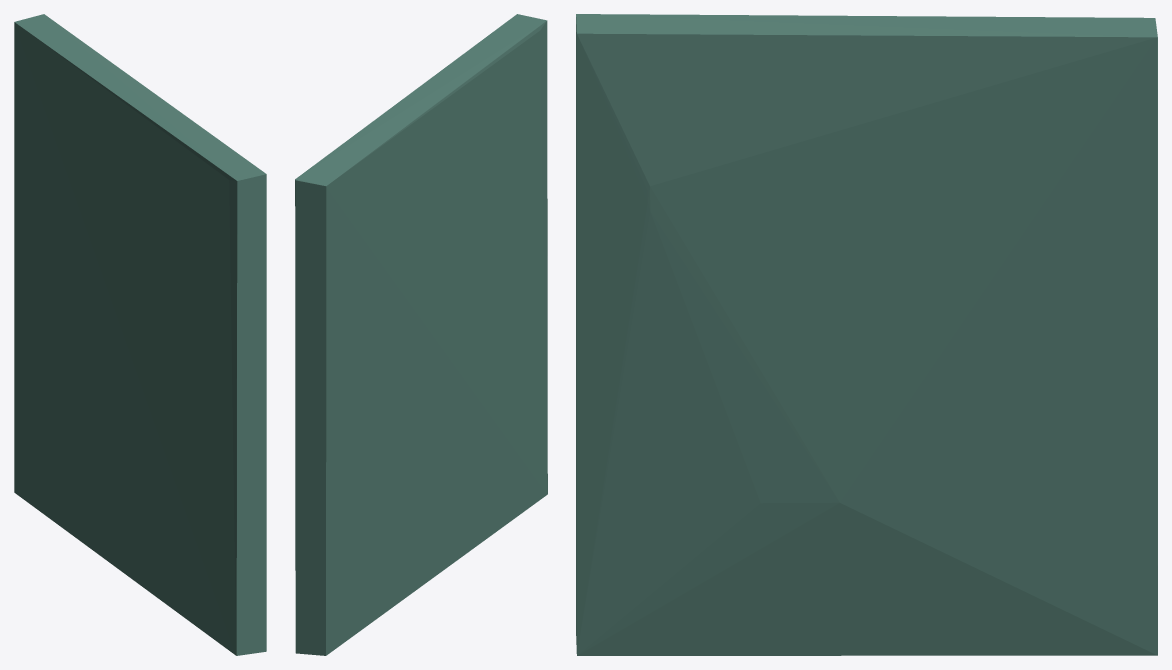
File: workshopSystem_scheduleBoard_service_a01.glb
3 views of the same model, side by side, from view 1: azimuth 30°, elevation 25°; view 2: azimuth 150°, elevation 25°; view 3: azimuth 270°, elevation 25° (orthographic). The views are drawn at different scales.
Parts seen in each view (by area): view 1: geometry_0; view 2: geometry_0; view 3: geometry_0.
Boxes of the visible parts, x1,y1,x2,y2 form: geometry_0: (14,14,266,655); geometry_0: (295,14,547,655); geometry_0: (576,14,1157,655).
Size of the model in its own units: 0.0407 by 0.4796 by 0.4059.
